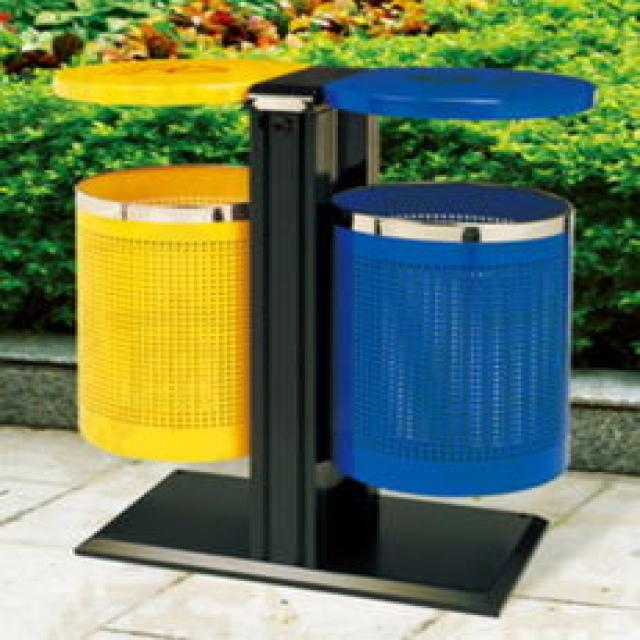garbage_bin: (50, 57, 593, 617)
